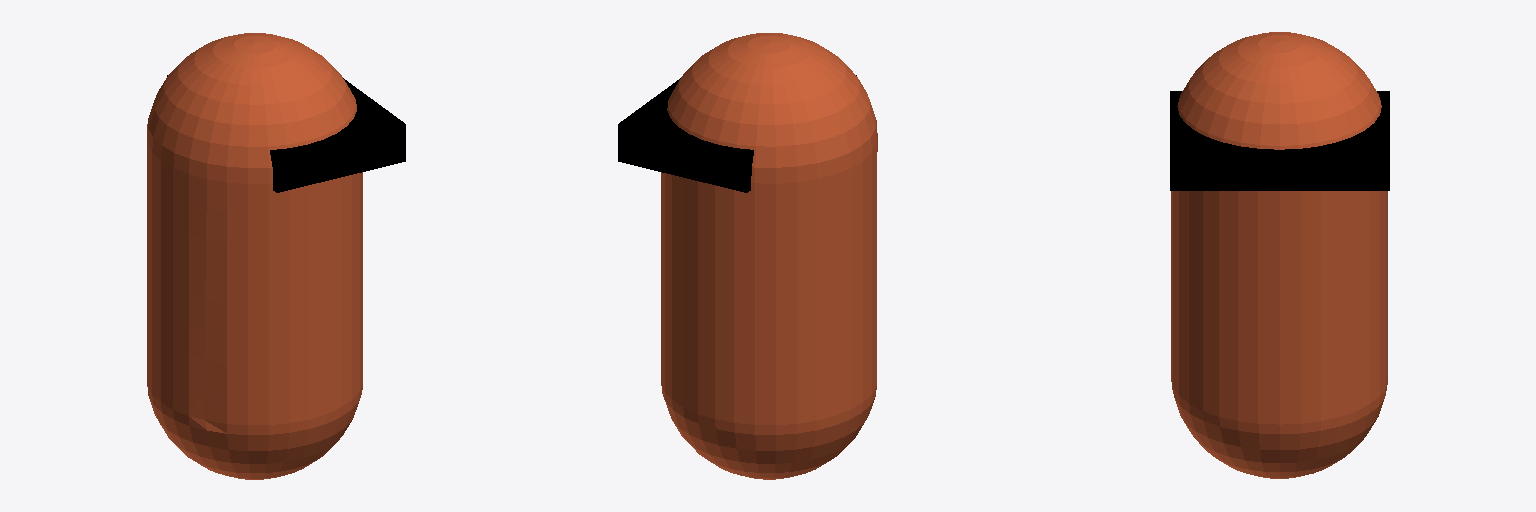
The model's file is bean.obj.
3 renders of one model, left to right at view 1: azimuth 30°, elevation 25°; view 2: azimuth 150°, elevation 25°; view 3: azimuth 270°, elevation 25°, orthographic.
Parts seen in each view (by area): view 1: Sphere, Cube_Cube.005; view 2: Sphere, Cube_Cube.005; view 3: Sphere, Cube_Cube.005.
Part boxes in pixels (bbox=[...]): Sphere: bbox=[147, 33, 362, 479]; Cube_Cube.005: bbox=[167, 75, 405, 192]; Sphere: bbox=[661, 33, 877, 479]; Cube_Cube.005: bbox=[618, 75, 856, 192]; Sphere: bbox=[1171, 32, 1387, 478]; Cube_Cube.005: bbox=[1170, 91, 1389, 190].
Bounding box in the file's own units: 0.2938 × 0.6297 × 0.2928.